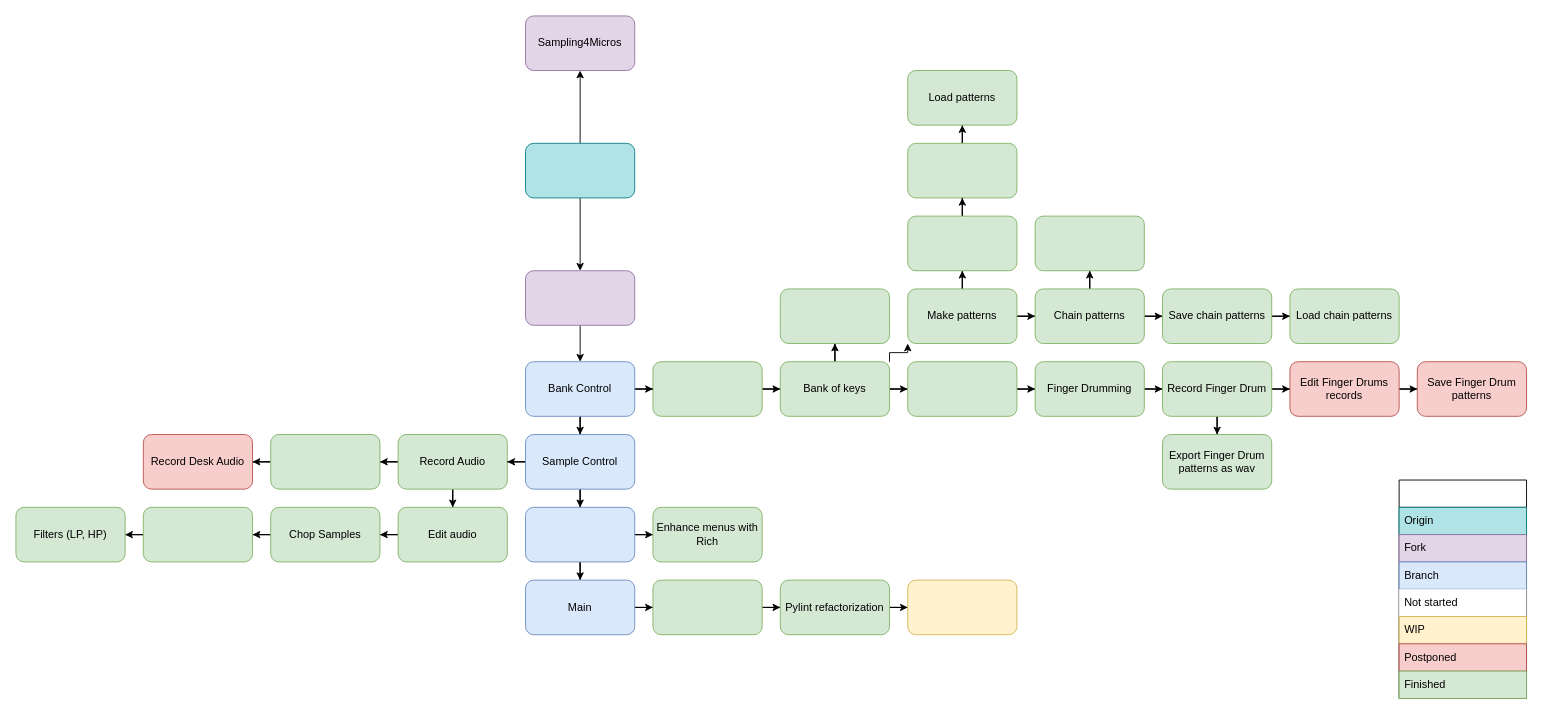
The diagram is 1542 pixels wide and 714 high, and some of its shapes have lost their labels. The shapes that lost their labels are listed below. From the top down, each one's box as (x1, y1, x2, y2) in pixels, then its label:
(525, 142, 635, 198): Sampling proyect
(907, 142, 1017, 198): Save patterns
(907, 215, 1017, 271): Layers in patterns
(1034, 215, 1144, 271): Export chain patterns as wav
(525, 270, 635, 325): SamplingCLI
(779, 288, 890, 344): Load samples
(652, 361, 762, 416): Bank of Keys to launch samples
(907, 361, 1017, 416): Play samples
(270, 434, 380, 489): Record Mic Audio
(142, 506, 253, 562): Pitch Control
(525, 506, 635, 562): Menu Control
(652, 579, 762, 635): Create Main controls
(907, 579, 1017, 635): Bug fixes
(1398, 479, 1527, 698): How to read
